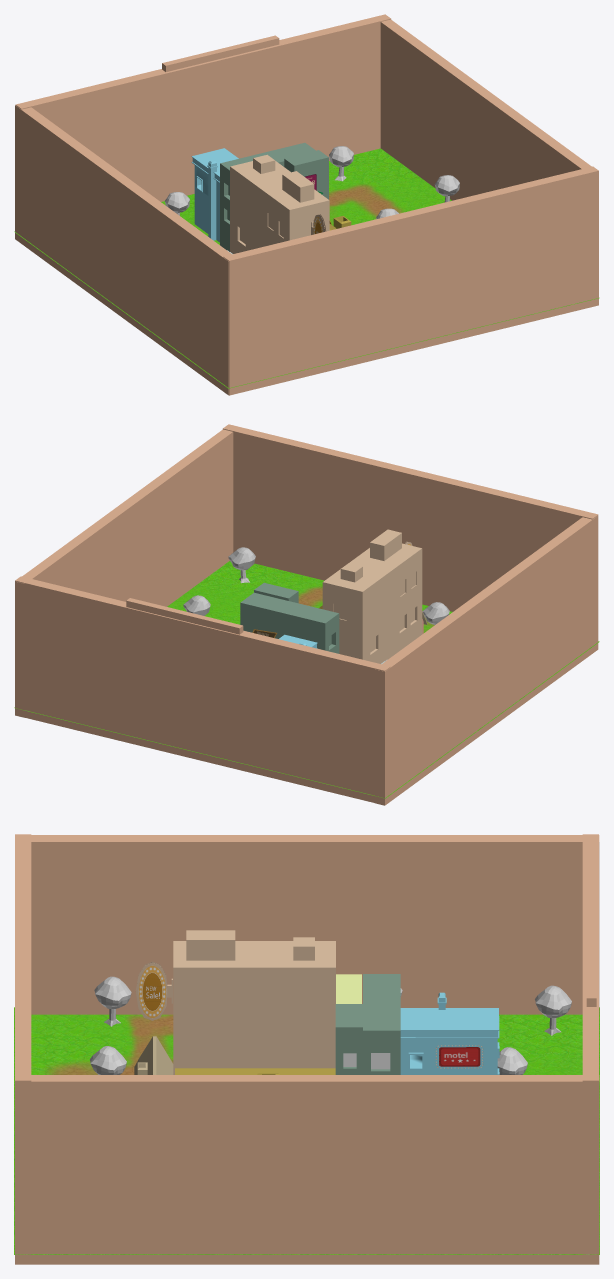
File: HouseScene.fbx
The picture shows the model from 3 angles, top to bottom: view 1: azimuth 30°, elevation 25°; view 2: azimuth 150°, elevation 25°; view 3: azimuth 270°, elevation 25°; orthographic projection. The views are drawn at different scales.
Parts seen in each view (by area): view 1: 立方体.023, 立方体.024, 立方体, 平面, 立方体.002, 立方体.016, 立方体.005, Cylinder.004; view 2: 立方体.023, 立方体.024, 立方体, 平面, 立方体.002, 立方体.005, Cylinder.003; view 3: 立方体.024, 立方体, 立方体.023, 平面, 立方体.016, 立方体.002, 立方体.001, 立方体.036, Cylinder.007, Cylinder.010, 立方体.035, 立方体.005 (+3 smaller).
Boxes of the visible parts, x1,y1,x2,y2 form: 立方体.023: (15, 14, 598, 395); 立方体.024: (15, 19, 591, 395); 立方体: (230, 154, 329, 253); 平面: (14, 148, 599, 388); 立方体.002: (220, 142, 328, 251); 立方体.016: (191, 148, 238, 242); 立方体.005: (162, 35, 279, 71); Cylinder.004: (329, 146, 353, 181); 立方体.023: (15, 424, 598, 802); 立方体.024: (15, 429, 598, 805); 立方体: (322, 529, 422, 663); 平面: (14, 561, 599, 798); 立方体.002: (240, 582, 339, 653); 立方体.005: (126, 598, 243, 634); Cylinder.003: (228, 547, 255, 583); 立方体.024: (31, 835, 599, 1264); 立方体: (167, 930, 335, 1074); 立方体.023: (15, 834, 598, 1264); 平面: (14, 1007, 599, 1254); 立方体.016: (400, 992, 499, 1074); 立方体.002: (335, 974, 400, 1074); 立方体.001: (135, 961, 167, 1020); 立方体.036: (175, 1068, 335, 1074); Cylinder.007: (535, 985, 571, 1035); Cylinder.010: (94, 976, 131, 1026); 立方体.035: (134, 1036, 173, 1074); 立方体.005: (586, 922, 596, 1006).
Bounding box in the file's own units: 577 × 244 × 577.
